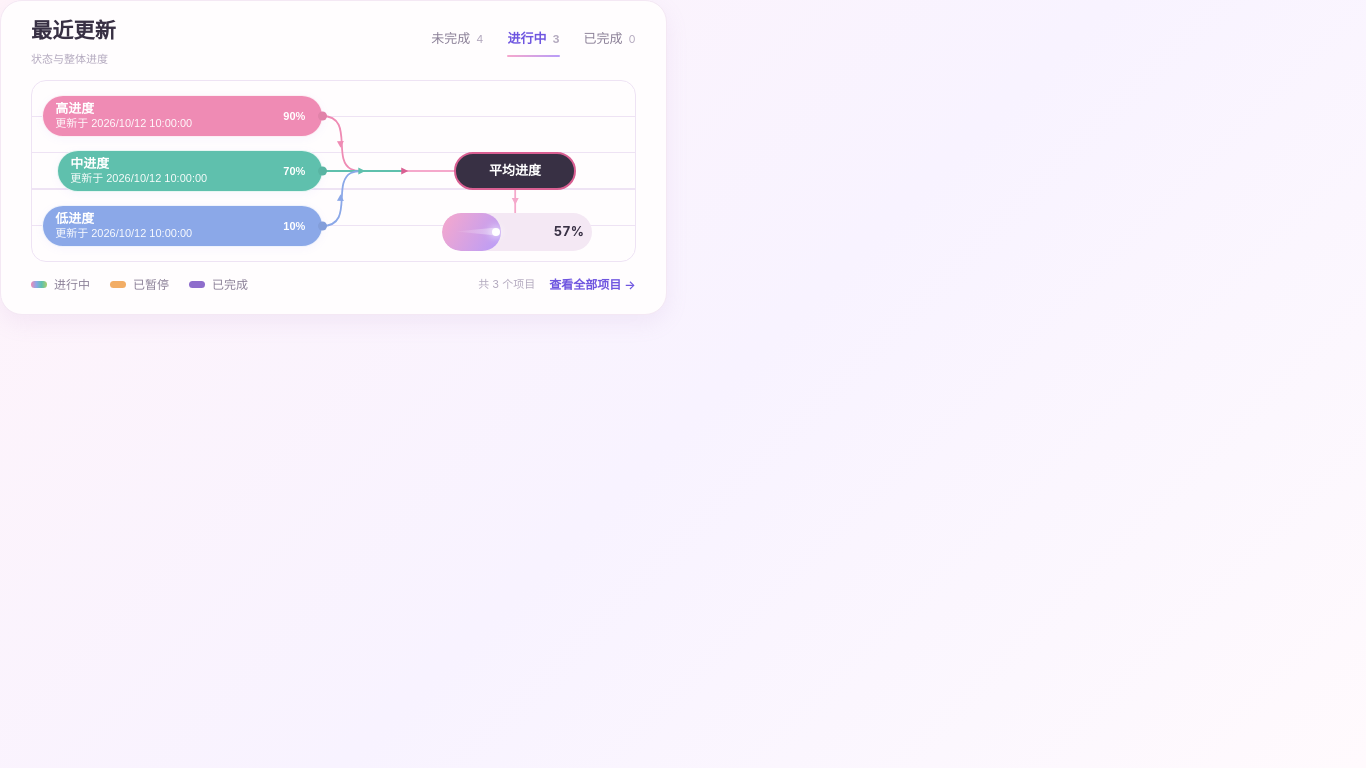
Test: ProjectFlowCard · 取数与配色 › 未完成只画进度最高的三条，并按进度降序
The width and height of the screenshot is (1366, 768).
Click the tab "未完成 4".
click(457, 41)  # box [431, 25, 484, 58]
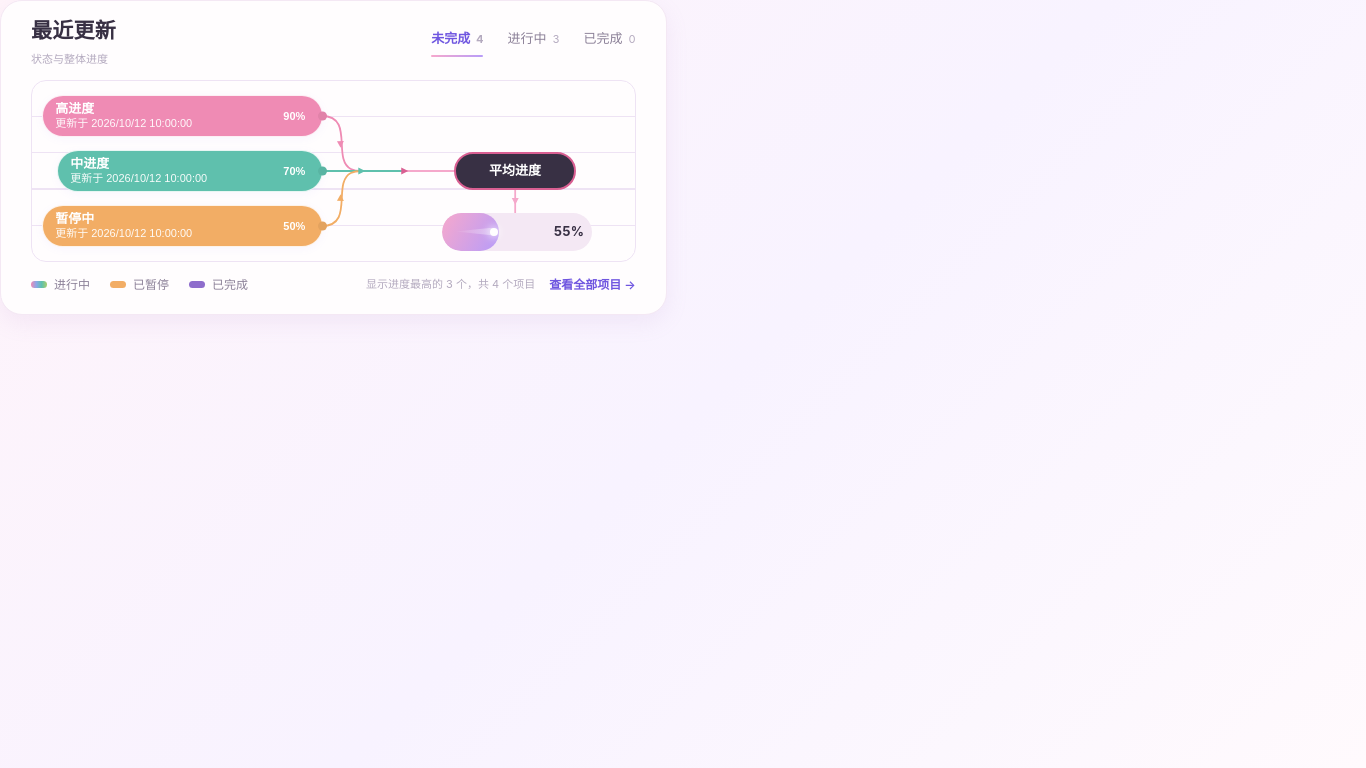
Check: the text "低进度" is gone
Check: the text "显示进度最高的 3 个，共 4 个项目" is shown, box [366, 276, 535, 293]
